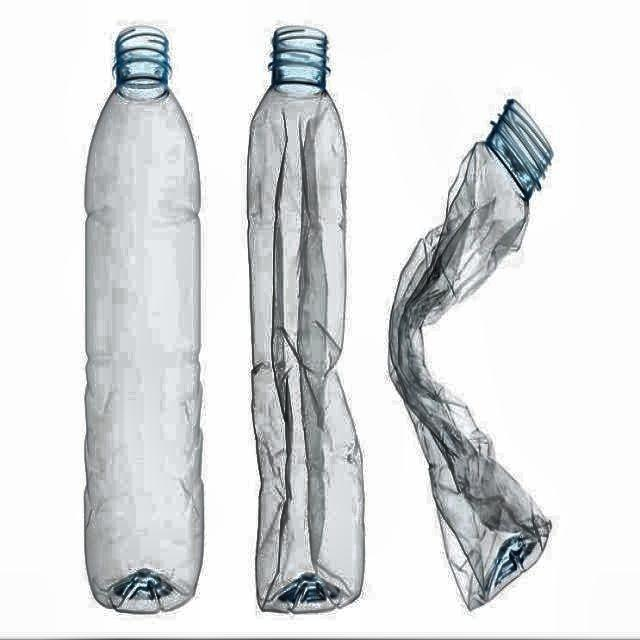plastic: (386, 100, 554, 612), (82, 23, 206, 618), (246, 25, 367, 617)
